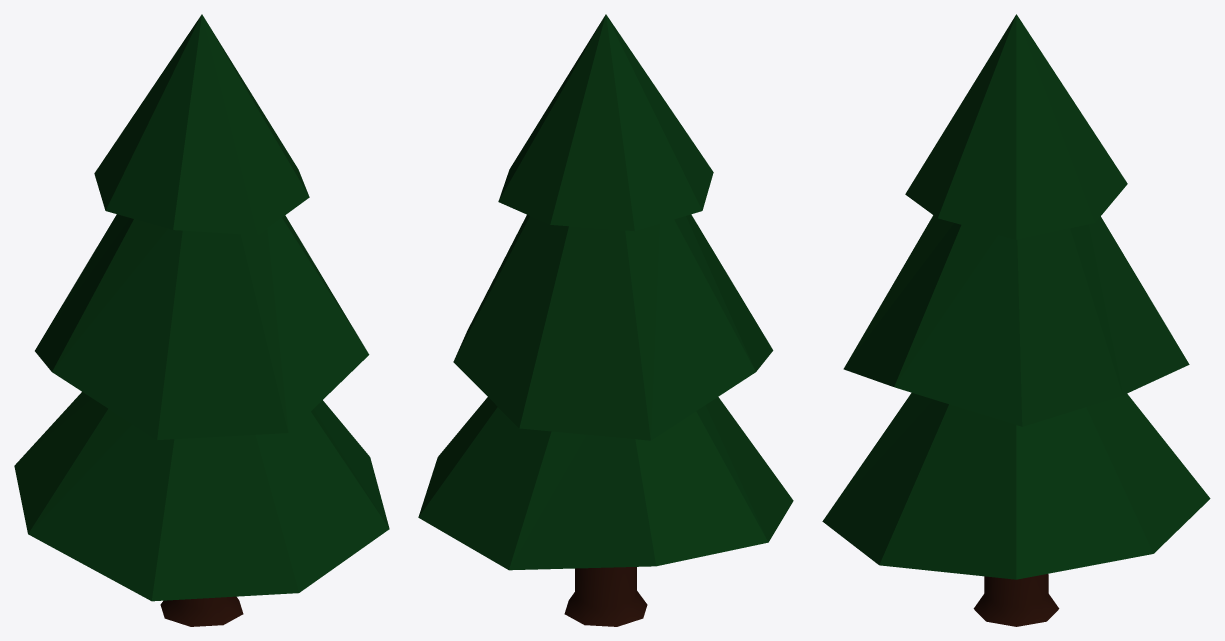
Rendered from kuusi3.fbx.
3 renders of one model, left to right at view 1: azimuth 30°, elevation 25°; view 2: azimuth 150°, elevation 25°; view 3: azimuth 270°, elevation 25°, orthographic.
Parts seen in each view (by area): view 1: kuusi; view 2: kuusi; view 3: kuusi.
Part boxes in pixels (x1,y1,x2,y2): kuusi: [14, 14, 389, 626]; kuusi: [418, 14, 793, 626]; kuusi: [822, 14, 1210, 626].
Bounding box in the file's own units: 719 × 1216 × 719.
